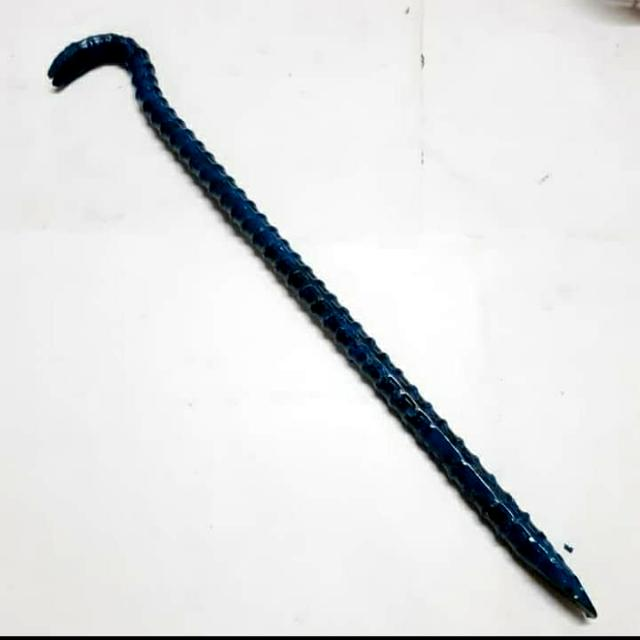crow bar: (36, 19, 610, 624)
